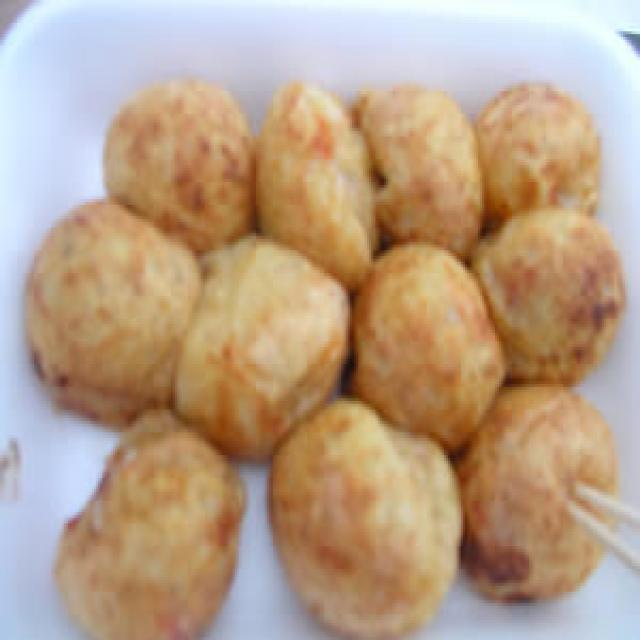炸货点心: (0, 62, 640, 640)
